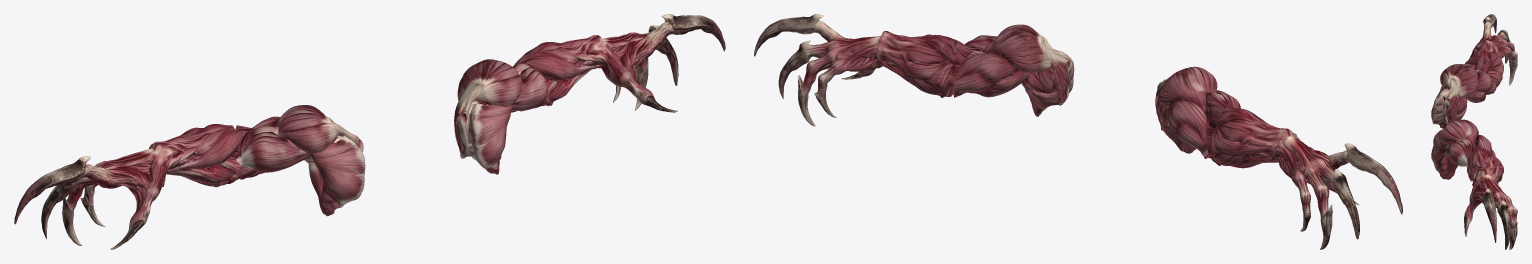
File: aethelred_braco_mutante_rig.glb
3 views of the same model, side by side, from view 1: azimuth 30°, elevation 25°; view 2: azimuth 150°, elevation 25°; view 3: azimuth 270°, elevation 25° (orthographic). The views are drawn at different scales.
Parts seen in each view (by area): view 1: bracos; view 2: bracos; view 3: bracos.
Part boxes in pixels (x1,y1,x2,y2): bracos: (14, 14, 725, 249); bracos: (754, 14, 1402, 249); bracos: (1431, 14, 1517, 249).
Bounding box in the file's own units: 0.0215 × 0.00355 × 0.00374.
1 material, 1 textured.
